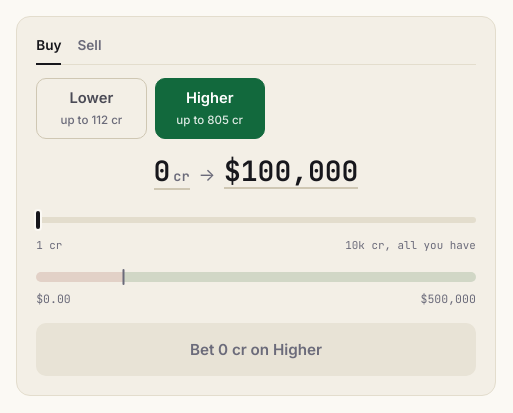
Test: selling is a tab on the ticket › holding nothing, Sell says so instead of showing a dead control
The image size is (513, 413).
Click the button "Sell" at (90, 50), box [78,35,102,65]
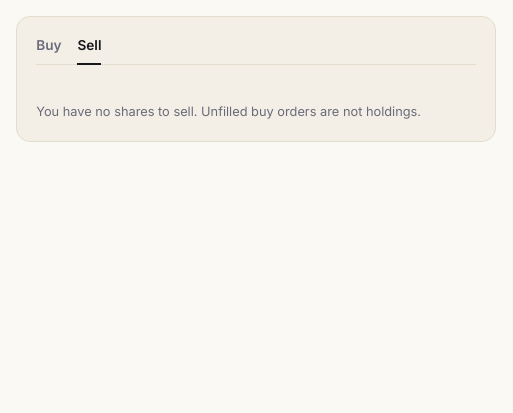
Check: the text "no shares to sell" is shown, box [36,104,421,119]
